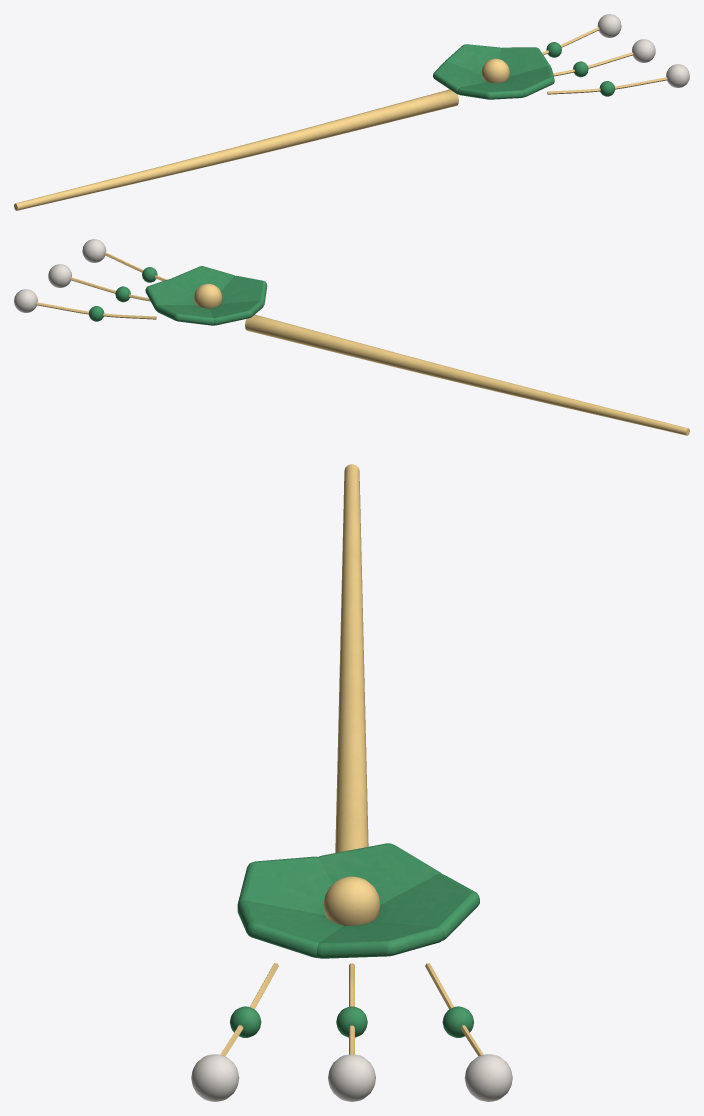
The model's file is buyao_hairpin.glb.
3 renders of one model, top to bottom at view 1: azimuth 30°, elevation 25°; view 2: azimuth 150°, elevation 25°; view 3: azimuth 270°, elevation 25°, orthographic. The views are drawn at different scales.
Parts seen in each view (by area): view 1: buyao_hairpin; view 2: buyao_hairpin; view 3: buyao_hairpin.
Boxes of the visible parts, x1=… form: buyao_hairpin: x1=14, y1=14, x2=689, y2=210; buyao_hairpin: x1=14, y1=239, x2=689, y2=435; buyao_hairpin: x1=191, y1=464, x2=512, y2=1101.
Size of the model in its own units: 0.2328 by 0.0133 by 0.0508.
Materials: 1 (1 with a texture image).
